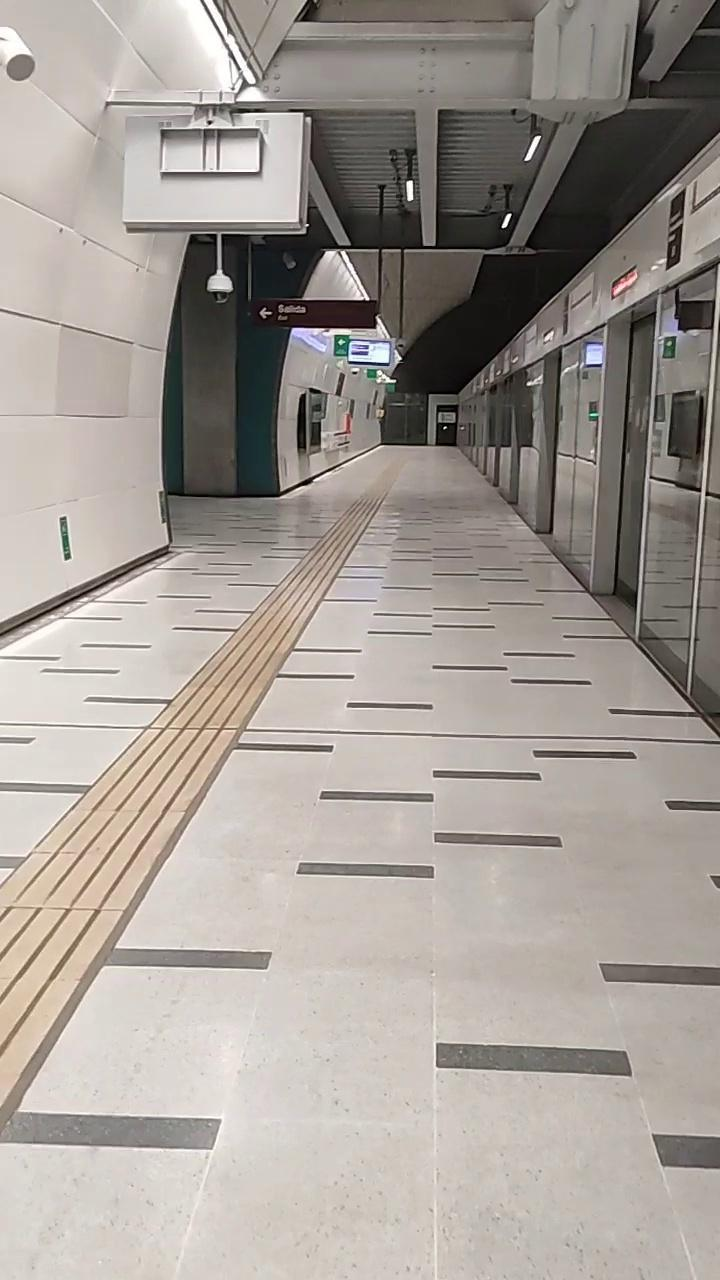left arrow: (254, 304, 274, 324)
